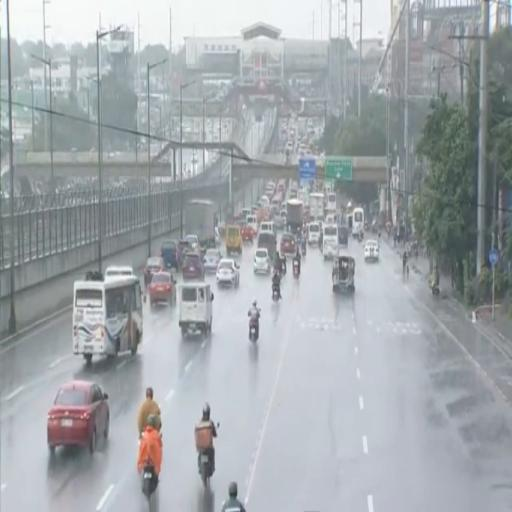bus: (73, 272, 143, 363), (352, 207, 364, 236), (325, 190, 336, 212)
car: (47, 380, 109, 453), (149, 271, 176, 307), (216, 259, 239, 287), (144, 256, 164, 286), (183, 252, 204, 280), (161, 240, 179, 270), (254, 248, 270, 274), (204, 249, 221, 273), (104, 266, 134, 279), (280, 233, 296, 257), (307, 222, 321, 245), (364, 240, 379, 261), (241, 222, 255, 243), (185, 234, 199, 250), (274, 211, 286, 229)
motorcycle: (143, 462, 155, 502), (199, 452, 212, 487), (249, 317, 258, 342), (272, 284, 280, 301), (432, 284, 440, 298), (293, 261, 299, 279), (274, 266, 282, 279), (301, 239, 306, 257)
tricycle: (333, 255, 354, 293)
truck: (185, 200, 217, 250), (286, 199, 303, 234), (310, 192, 323, 220)
